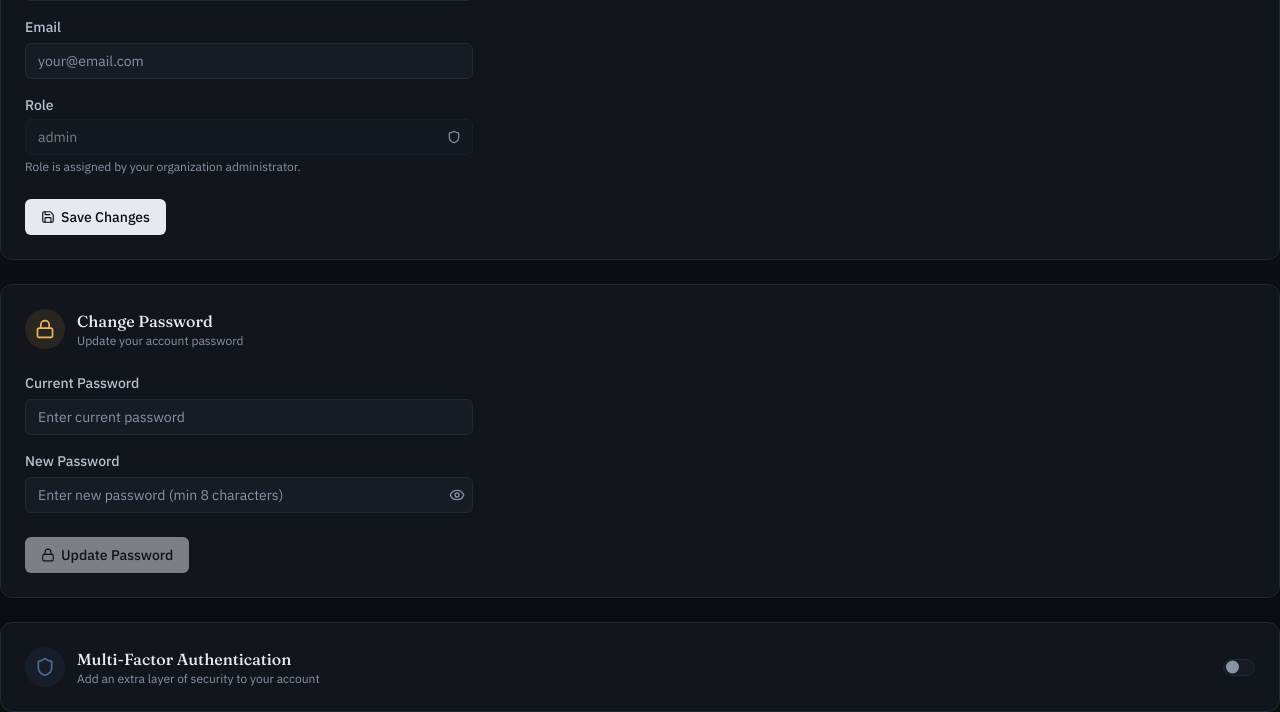
Test: AccountPage › shows success message after password meets requirements
The image size is (1280, 712).
(page scrolled)
Type "LongEnough1" into the password field with placeholder "Enter new password (min 8 characters)" at (249, 495), box [25, 477, 473, 513]
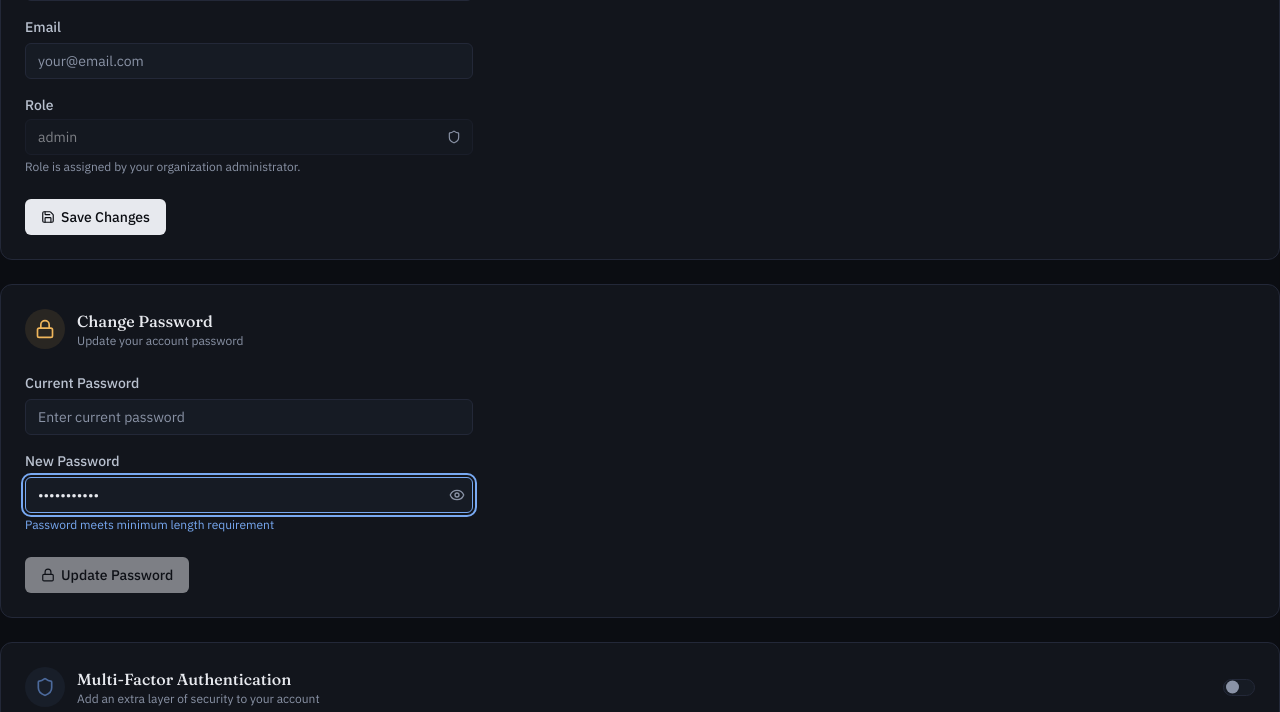
Result: the text "Password meets minimum length requirement" is shown at [25, 517, 274, 532]
